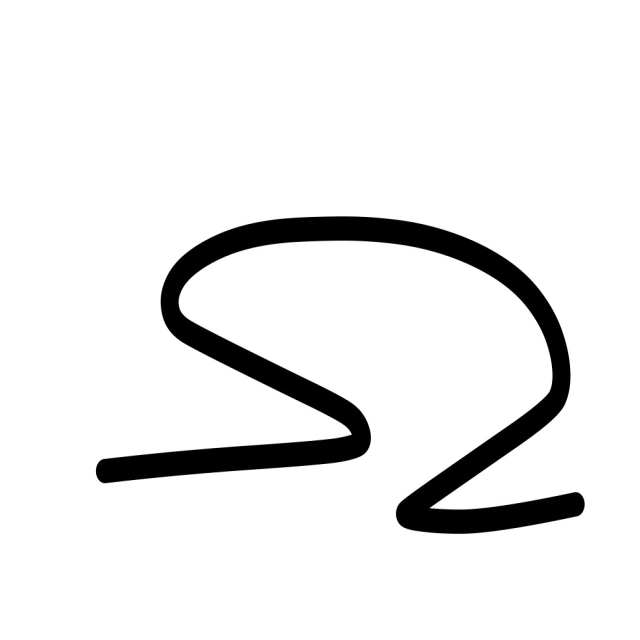ohms: (61, 160, 618, 599)
